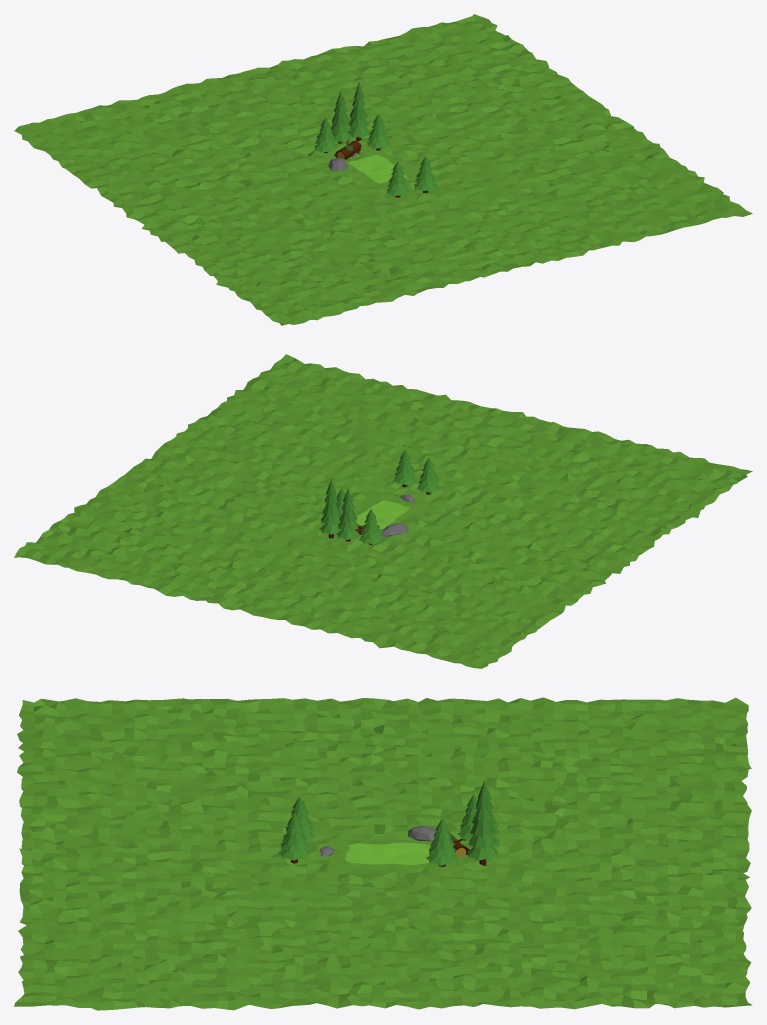
Rendered from Forest_level.fbx.
The picture shows the model from 3 angles, top to bottom: view 1: azimuth 30°, elevation 25°; view 2: azimuth 150°, elevation 25°; view 3: azimuth 270°, elevation 25°; orthographic projection. The views are drawn at different scales.
Parts seen in each view (by area): view 1: Plane.004, Cylinder.007, Cylinder.006; view 2: Plane.004, Cylinder.007, Cylinder.006; view 3: Plane.004, Cylinder.007, Cylinder.008, Cylinder.004.
Part boxes in pixels (left/top/right/bottom): Plane.004: left=14, top=14, right=752, bottom=325; Cylinder.007: left=348, top=82, right=370, bottom=140; Cylinder.006: left=331, top=91, right=351, bottom=143; Plane.004: left=14, top=354, right=752, bottom=668; Cylinder.007: left=319, top=478, right=341, bottom=538; Cylinder.006: left=336, top=488, right=360, bottom=541; Plane.004: left=14, top=697, right=752, bottom=1010; Cylinder.007: left=467, top=786, right=498, bottom=865; Cylinder.008: left=278, top=813, right=310, bottom=863; Cylinder.004: left=426, top=818, right=458, bottom=866.
Size of the model in its own units: 6105 by 779 by 6109.
